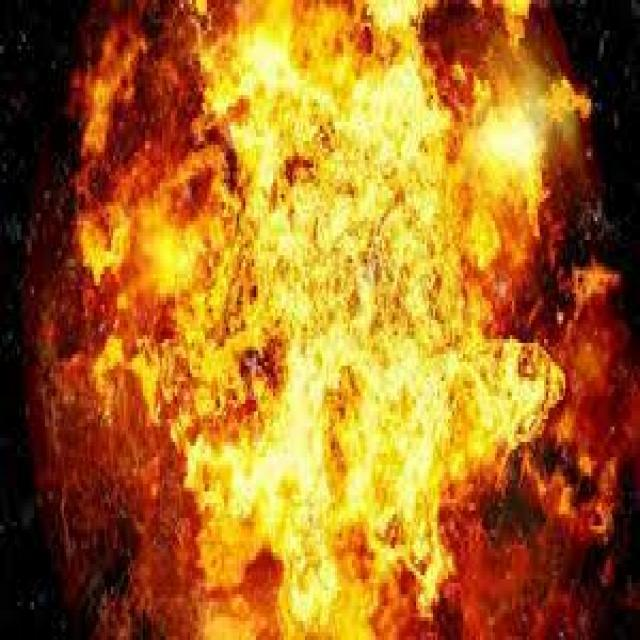fire: (89, 8, 556, 640)
